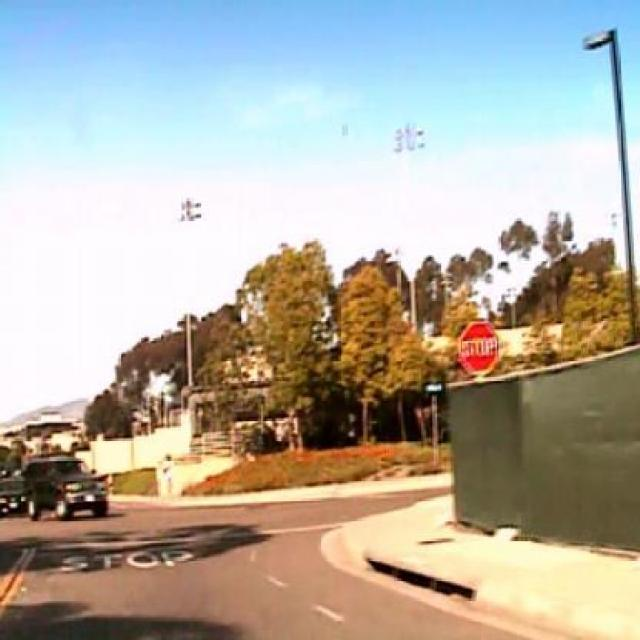traffic_sign: (458, 320, 498, 380)
